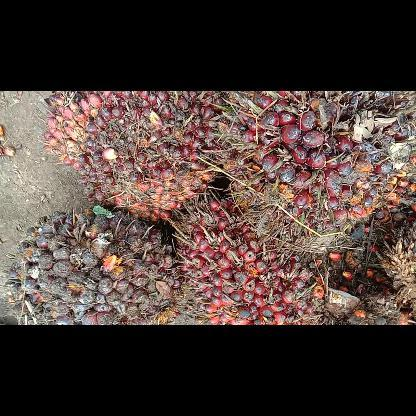Kurang masak: (0, 204, 184, 324)
TBS masak: (216, 90, 414, 250), (40, 91, 233, 227), (172, 191, 332, 324)
